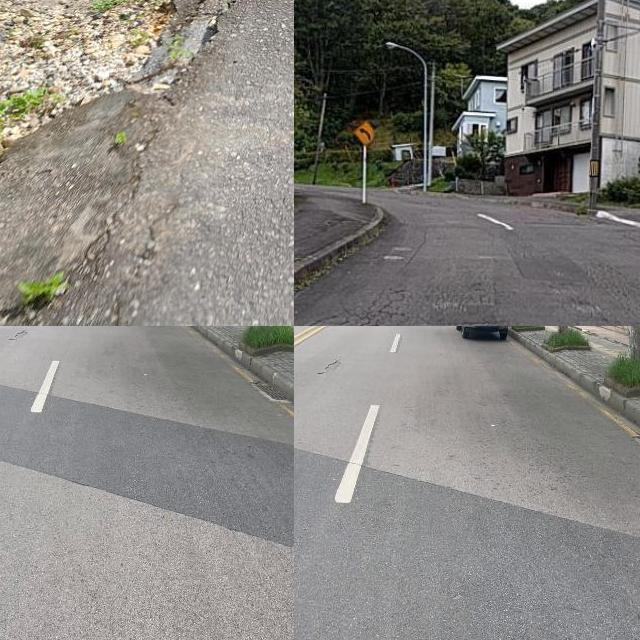Pinggir: (0, 0, 294, 292)
Sambungan: (294, 444, 640, 640), (0, 387, 294, 551)
